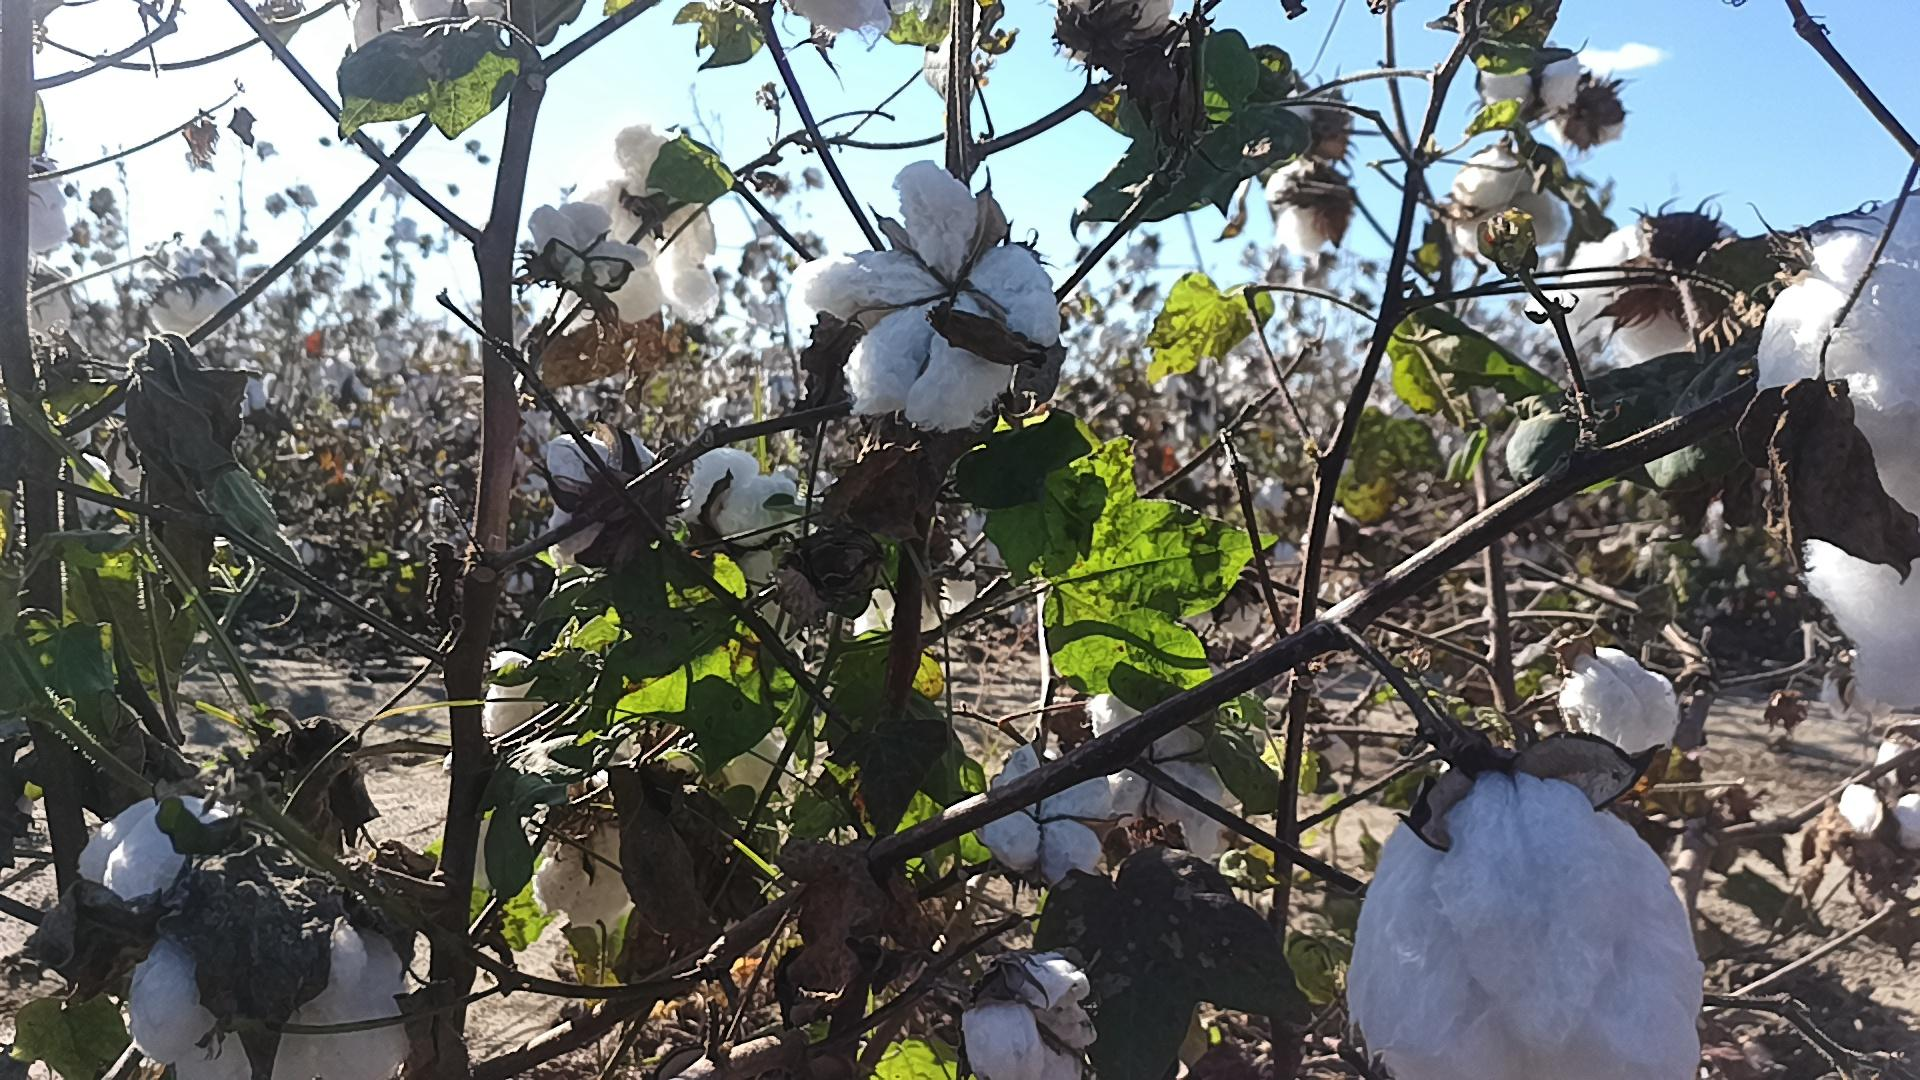cotton_ready: (1348, 766, 1709, 1080), (1755, 195, 1920, 713), (790, 161, 1065, 435), (79, 790, 255, 1056), (173, 901, 419, 1080), (1544, 218, 1759, 365), (582, 124, 720, 318), (1088, 696, 1233, 862), (978, 738, 1116, 878), (957, 948, 1096, 1080), (526, 200, 666, 330), (545, 433, 673, 555), (1557, 642, 1679, 753), (533, 794, 632, 923), (1455, 145, 1568, 255), (687, 448, 795, 553), (1844, 728, 1920, 856), (1262, 160, 1349, 260), (1056, 0, 1176, 65), (1481, 38, 1581, 109), (483, 647, 563, 736), (779, 0, 909, 34), (21, 164, 67, 251), (28, 265, 80, 336), (409, 0, 513, 32)
